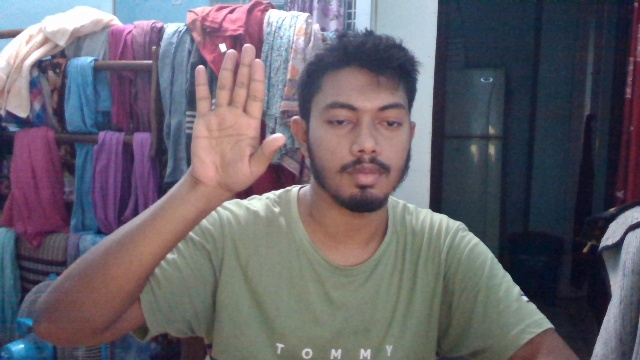hello: (189, 40, 288, 199)
